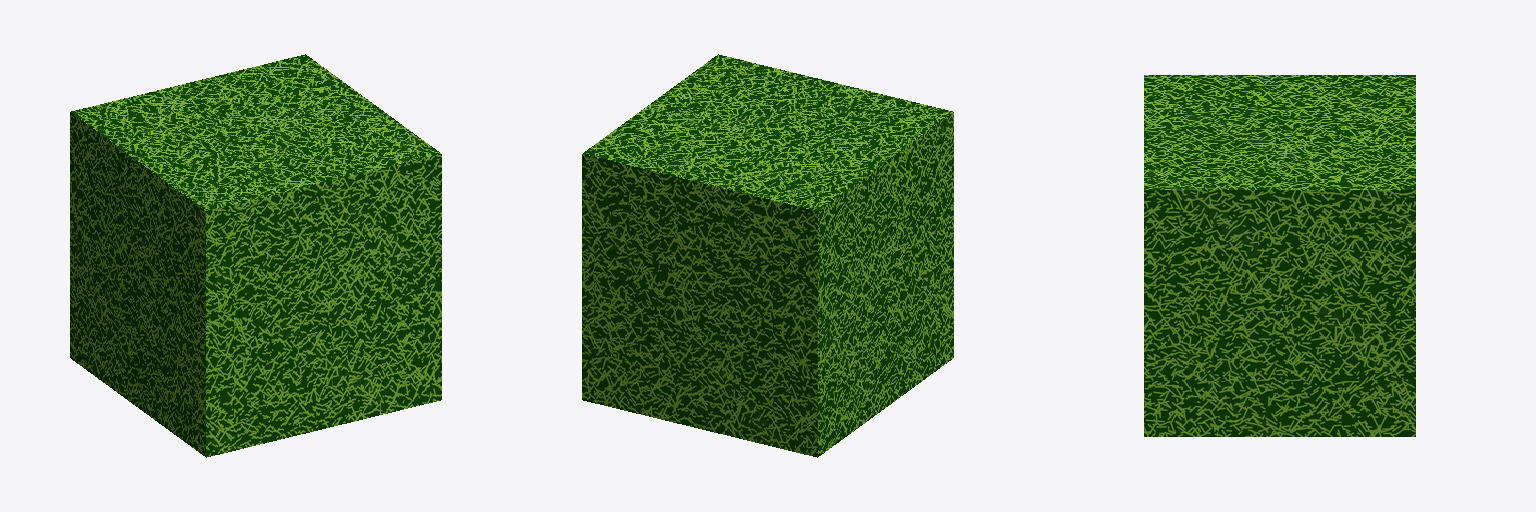
3 renders of one model, left to right at view 1: azimuth 30°, elevation 25°; view 2: azimuth 150°, elevation 25°; view 3: azimuth 270°, elevation 25°, orthographic.
Parts seen in each view (by area): view 1: Cube; view 2: Cube; view 3: Cube.
Part boxes in pixels (bbox=[...]): Cube: bbox=[70, 54, 441, 457]; Cube: bbox=[582, 54, 953, 457]; Cube: bbox=[1144, 75, 1415, 436].
Size of the model in its own units: 2 by 2 by 2.
1 materials, 1 textured.